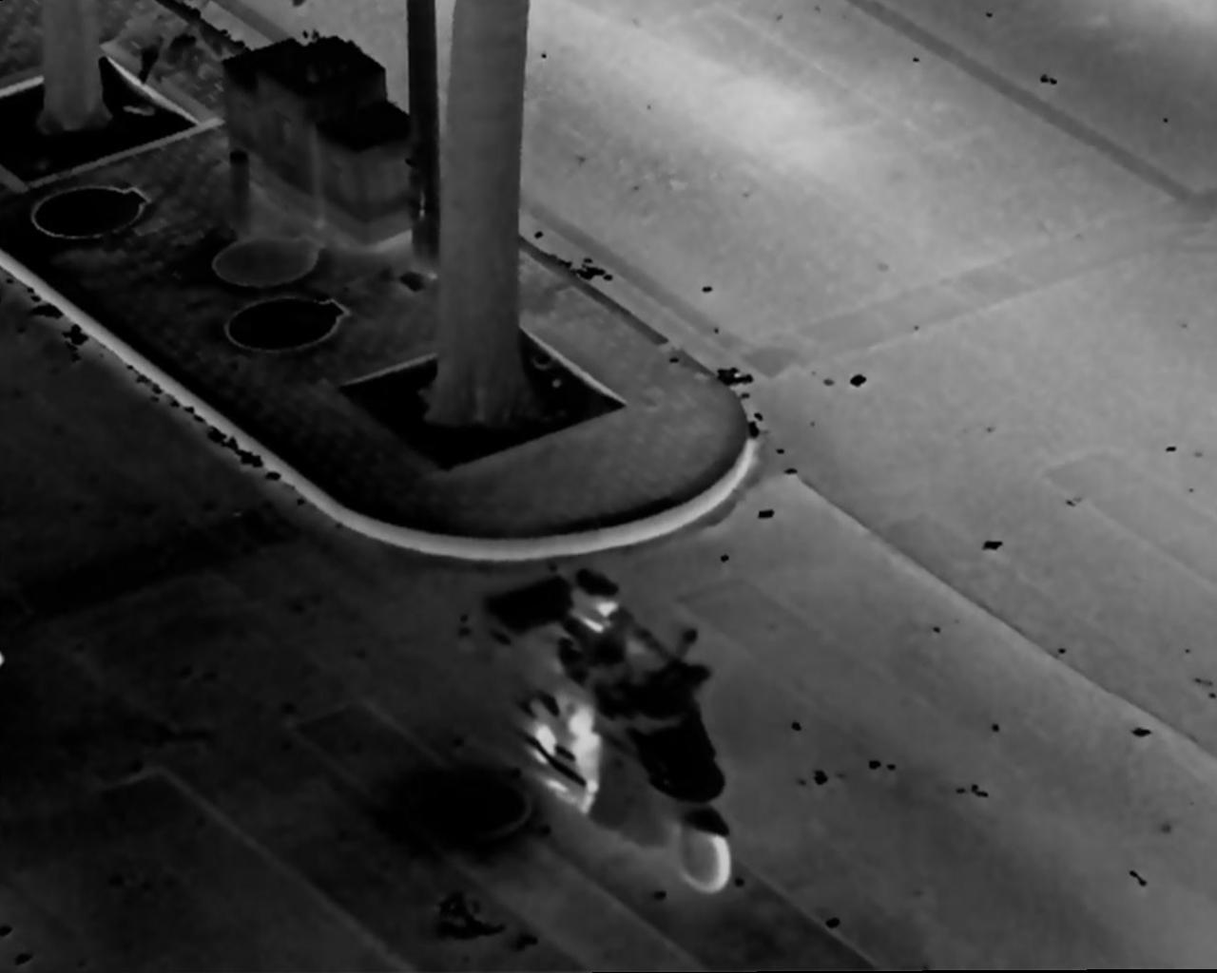person: (551, 571, 716, 829)
